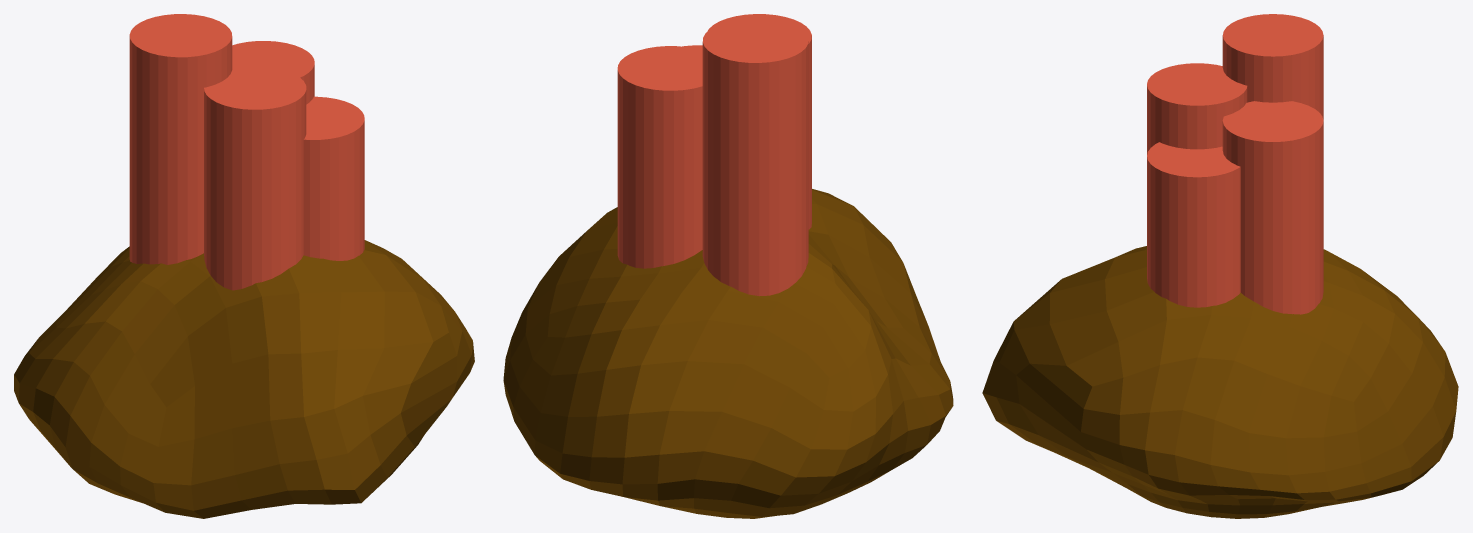
File: Mineral4.fbx
3 views of the same model, side by side, from view 1: azimuth 30°, elevation 25°; view 2: azimuth 150°, elevation 25°; view 3: azimuth 270°, elevation 25° (orthographic). The views are drawn at different scales.
Parts seen in each view (by area): view 1: Cubo, Cylinder.002, Cylinder.001, Cylinder.003, Cylinder; view 2: Cubo, Cylinder.001, Cylinder, Cylinder.002; view 3: Cubo, Cylinder, Cylinder.003, Cylinder.001, Cylinder.002.
Boxes of the visible parts, <box> form: Cubo: <box>14,240,474,518</box>; Cylinder.002: <box>204,66,306,290</box>; Cylinder.001: <box>129,14,232,264</box>; Cylinder.003: <box>303,96,364,260</box>; Cylinder: <box>232,41,314,104</box>; Cubo: <box>503,189,953,518</box>; Cylinder.001: <box>702,18,808,296</box>; Cylinder: <box>617,46,702,268</box>; Cylinder.002: <box>707,14,811,229</box>; Cubo: <box>982,246,1458,518</box>; Cylinder: <box>1222,101,1323,314</box>; Cylinder.003: <box>1147,142,1240,307</box>; Cylinder.001: <box>1222,14,1323,120</box>; Cylinder.002: <box>1147,63,1247,154</box>.
Bounding box in the file's own units: 195 × 211 × 212.
